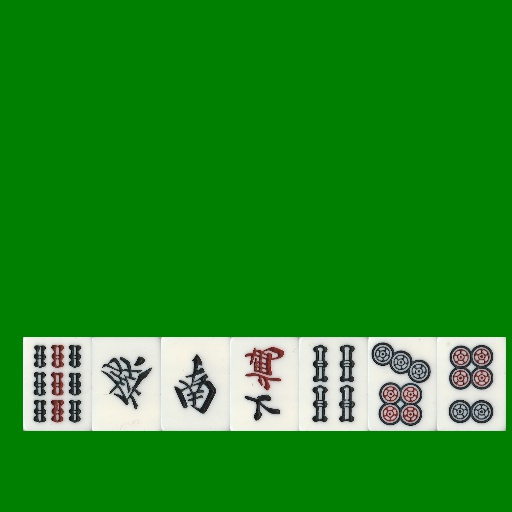4s: (299, 337, 368, 431)
6p: (437, 337, 506, 431)
7m: (230, 337, 299, 431)
7p: (368, 337, 437, 431)
9s: (23, 337, 92, 431)
hatsu: (92, 337, 161, 431)
south: (161, 337, 230, 431)
